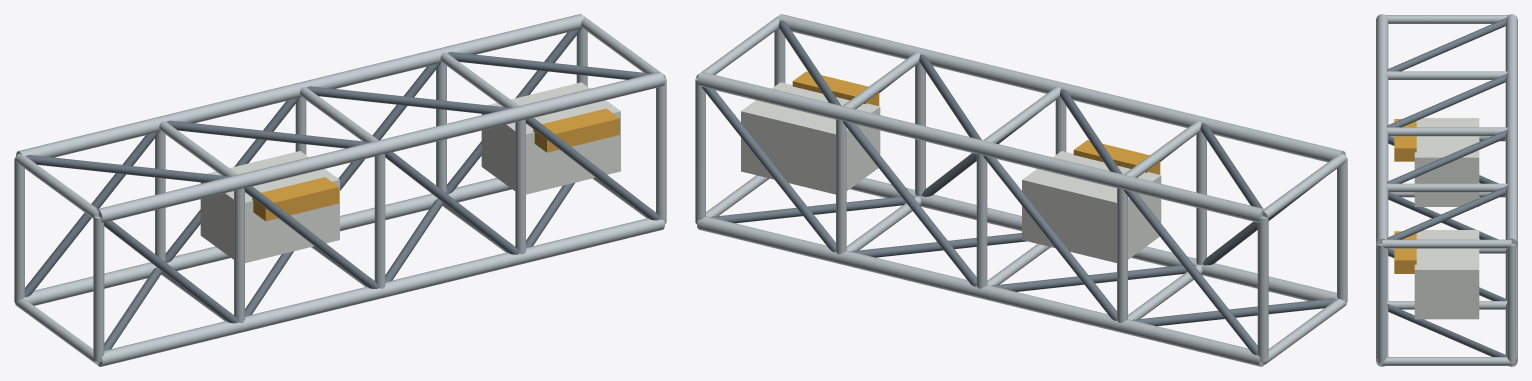
The model's file is iss_truss.p3.glb.
3 renders of one model, left to right at view 1: azimuth 30°, elevation 25°; view 2: azimuth 150°, elevation 25°; view 3: azimuth 270°, elevation 25°, orthographic. The views are drawn at different scales.
Parts seen in each view (by area): view 1: iss_truss.p3.mesh_Satin_aluminum, iss_truss.p3.mesh_Machined_steel, iss_truss.p3.mesh_Pale_thermal_blanket, iss_truss.p3.mesh_Gold_thermal_insulation; view 2: iss_truss.p3.mesh_Satin_aluminum, iss_truss.p3.mesh_Machined_steel, iss_truss.p3.mesh_Pale_thermal_blanket, iss_truss.p3.mesh_Gold_thermal_insulation; view 3: iss_truss.p3.mesh_Satin_aluminum, iss_truss.p3.mesh_Pale_thermal_blanket, iss_truss.p3.mesh_Machined_steel, iss_truss.p3.mesh_Gold_thermal_insulation.
Part boxes in pixels (x1,y1,x2,y2): iss_truss.p3.mesh_Satin_aluminum: (14,14,666,366); iss_truss.p3.mesh_Machined_steel: (24,29,659,350); iss_truss.p3.mesh_Pale_thermal_blanket: (200,82,620,262); iss_truss.p3.mesh_Gold_thermal_insulation: (252,108,619,221); iss_truss.p3.mesh_Satin_aluminum: (695,14,1347,366); iss_truss.p3.mesh_Machined_steel: (702,20,1335,355); iss_truss.p3.mesh_Pale_thermal_blanket: (741,82,1161,262); iss_truss.p3.mesh_Gold_thermal_insulation: (792,71,1160,174); iss_truss.p3.mesh_Satin_aluminum: (1376,14,1517,366); iss_truss.p3.mesh_Pale_thermal_blanket: (1414,118,1479,319); iss_truss.p3.mesh_Machined_steel: (1387,18,1506,356); iss_truss.p3.mesh_Gold_thermal_insulation: (1394,119,1416,273).
Bounding box in the file's own units: 9.76 × 2.56 × 2.56.
